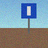sign: (21, 3, 36, 33)
